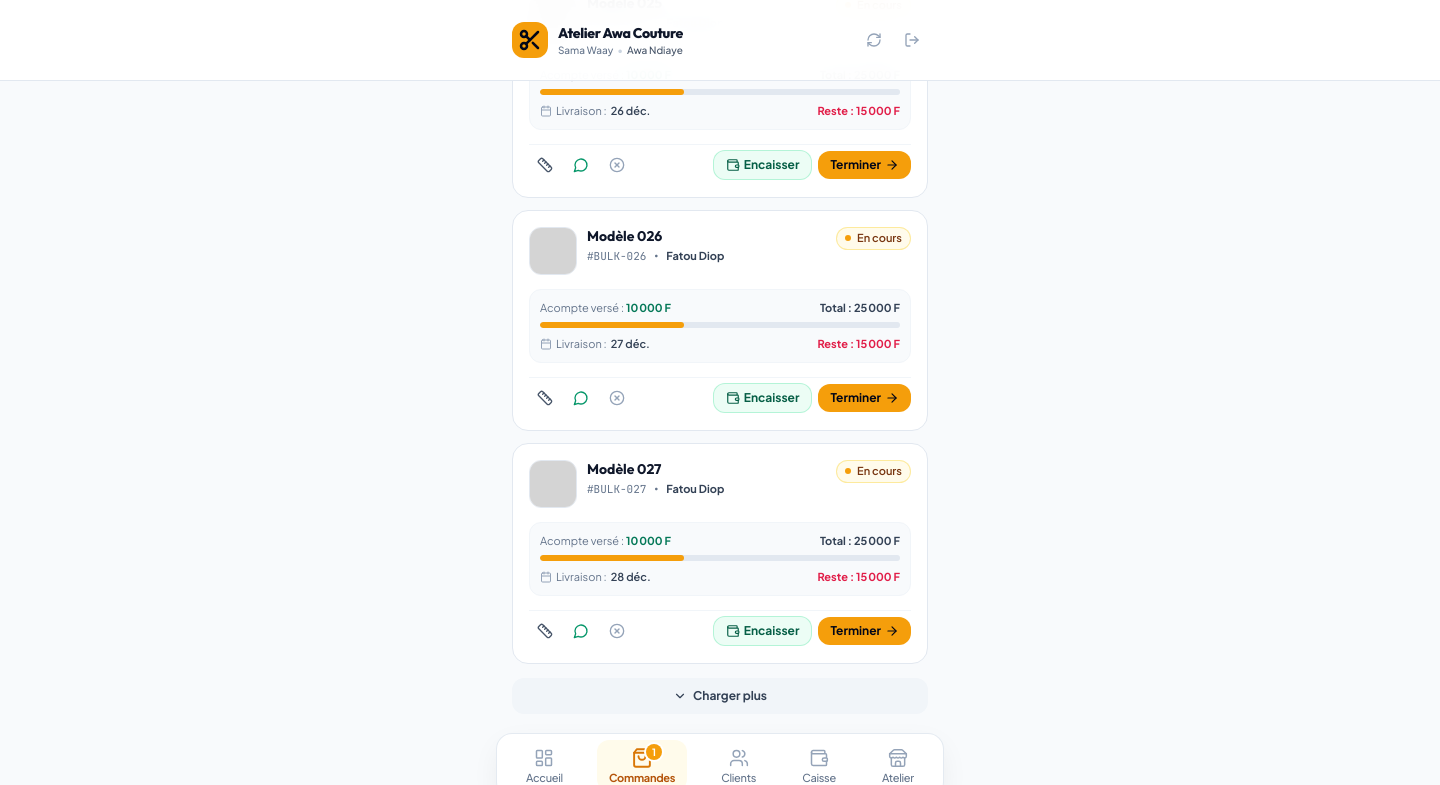
listes paginées (« Charger plus ») › commandes : 30 par page, « Charger plus » ajoute la suite puis disparaît
(page scrolled)
Check: the text "Modèle 035" is not shown
Click the button "Charger plus". click: (720, 696)
box: [512,678,928,714]
(page scrolled)
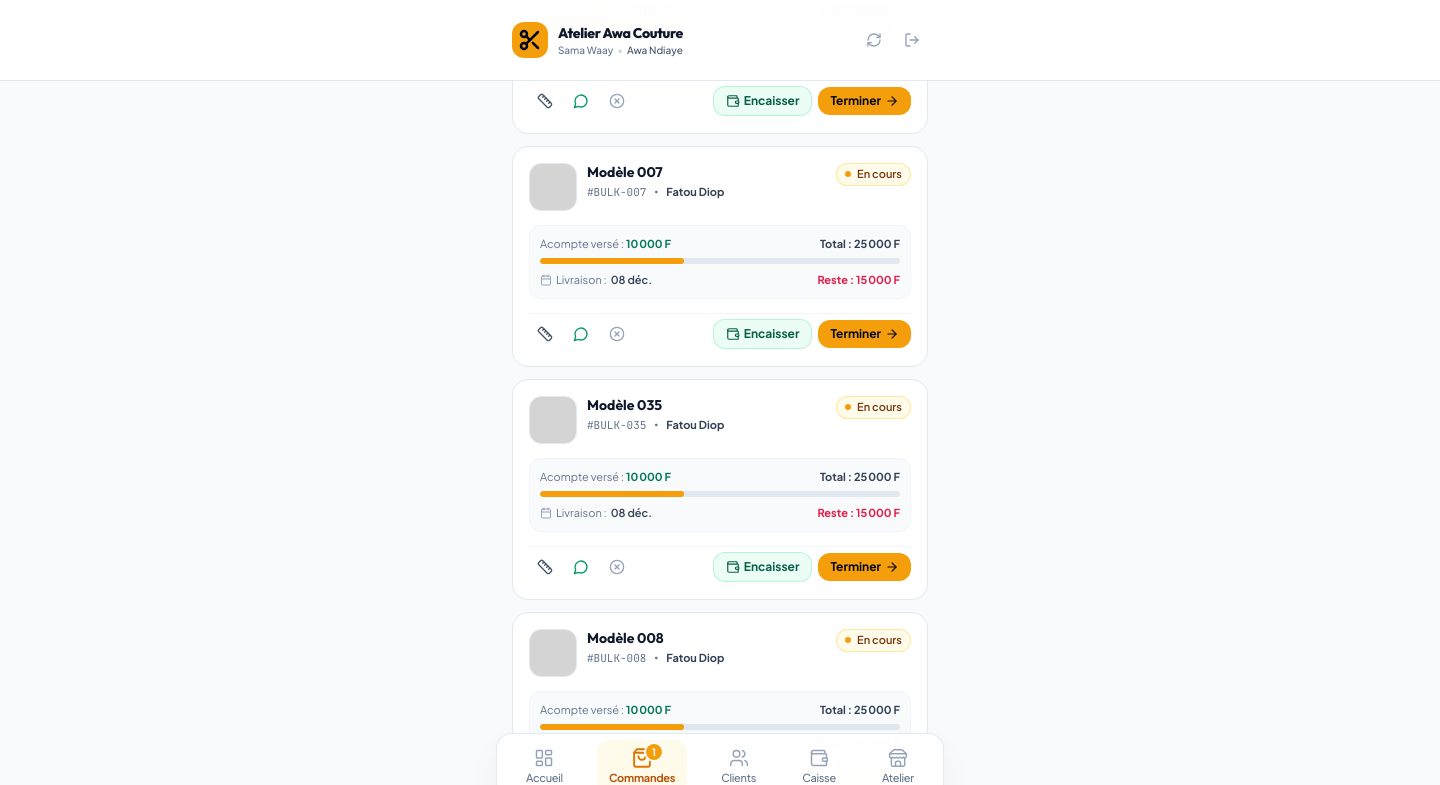
Check: the heading "Modèle 035" is shown, box [587,396,662,414]
Check: the button "Charger plus" is gone
